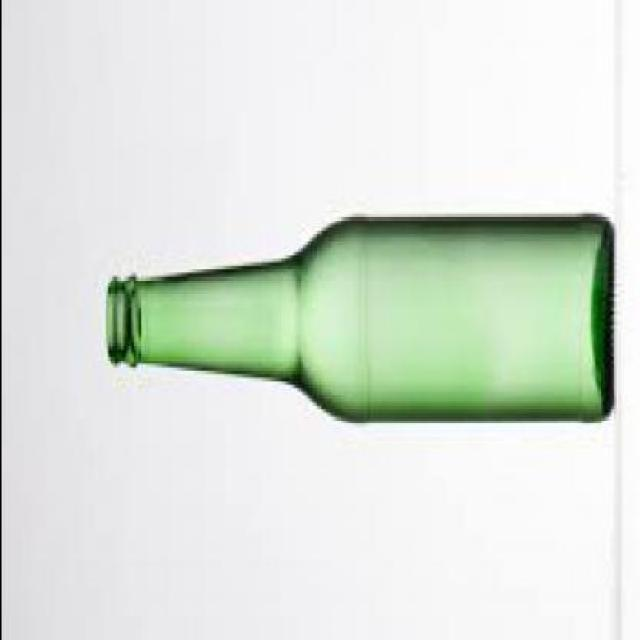GLASS: (102, 217, 610, 420)
